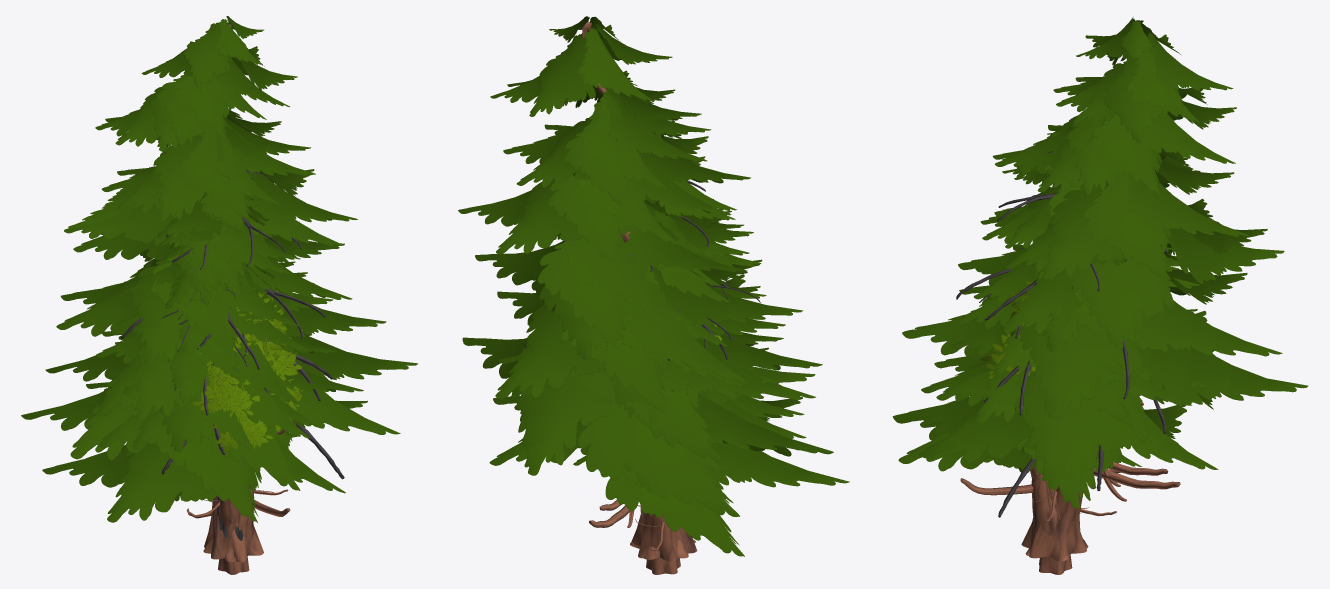
File: GIRIA_MEDZIAI.glb
The picture shows the model from 3 angles, left to right: view 1: azimuth 30°, elevation 25°; view 2: azimuth 150°, elevation 25°; view 3: azimuth 270°, elevation 25°; orthographic projection. The views are drawn at different scales.
Parts seen in each view (by area): view 1: Pine_5, Pine_2, Pine_1, Tree_1, DeadTree_6, Tree_9, Tree_8; view 2: Pine_5, Pine_2, Pine_1; view 3: Pine_5, Pine_2, Pine_1, DeadTree_6, Tree_1, Pine_4.
Boxes of the visible parts, box(x1,y1,x2,y2) form: Pine_5: box(21, 16, 417, 562); Pine_2: box(42, 157, 367, 574); Pine_1: box(81, 193, 336, 450); Tree_1: box(192, 326, 301, 562); DeadTree_6: box(120, 170, 344, 540); Tree_9: box(201, 292, 303, 555); Tree_8: box(219, 290, 283, 532); Pine_5: box(458, 16, 833, 561); Pine_2: box(489, 133, 849, 574); Pine_1: box(522, 179, 804, 510); Pine_5: box(892, 17, 1308, 561); Pine_2: box(894, 127, 1218, 574); Pine_1: box(934, 174, 1191, 486); DeadTree_6: box(956, 151, 1167, 526); Tree_1: box(980, 309, 1088, 560); Pine_4: box(984, 394, 1141, 521).
Size of the model in its own units: 7.59 by 10.69 by 7.35.
Materials: 4 (4 with a texture image).
